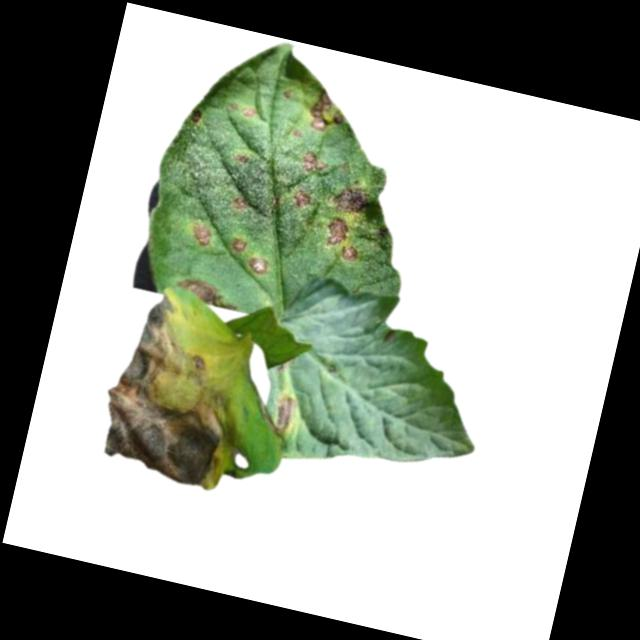Early_blight: (91, 286, 271, 495), (172, 270, 242, 309), (305, 83, 354, 137), (328, 183, 373, 216), (271, 386, 299, 433), (323, 213, 351, 249), (298, 147, 330, 177), (246, 251, 273, 277), (189, 219, 214, 247), (291, 188, 314, 211), (231, 192, 253, 212), (342, 244, 361, 262), (241, 102, 259, 120), (232, 235, 248, 252), (232, 150, 248, 165)
